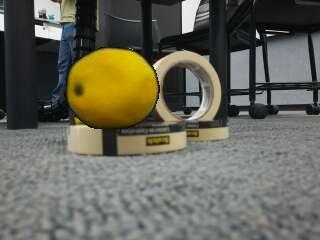lemon: (67, 48, 157, 128)
